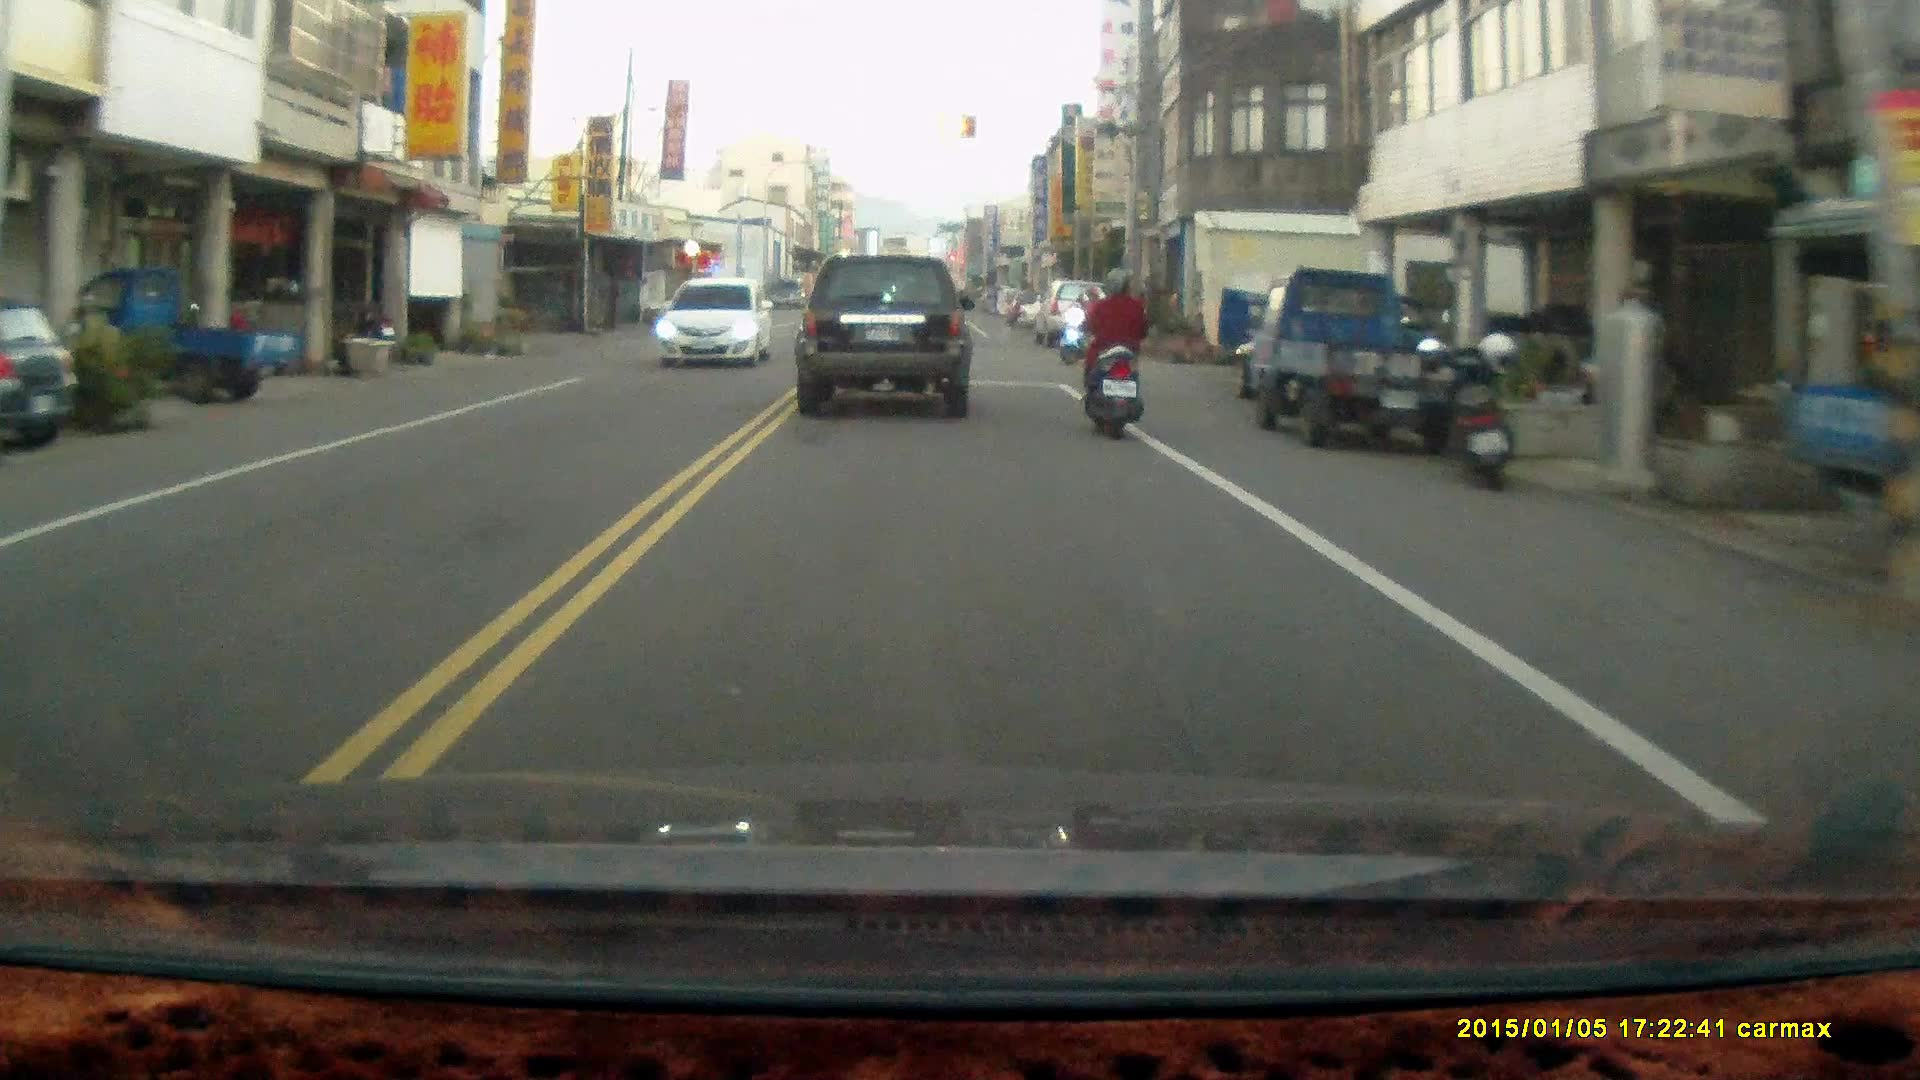rider: (1080, 268, 1144, 444), (1058, 290, 1110, 367)
vehicle: (1249, 268, 1486, 454), (58, 271, 303, 410), (794, 257, 974, 425), (1, 303, 80, 454), (653, 278, 775, 373), (1035, 285, 1114, 353)
